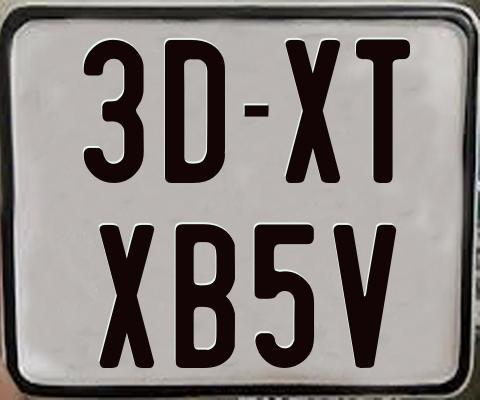3: (82, 38, 145, 182)
5: (251, 222, 315, 372)
B: (174, 221, 237, 365)
D: (162, 38, 226, 181)
T: (356, 36, 412, 181)
V: (333, 224, 401, 372)
X: (283, 39, 340, 188), (98, 223, 152, 367)
